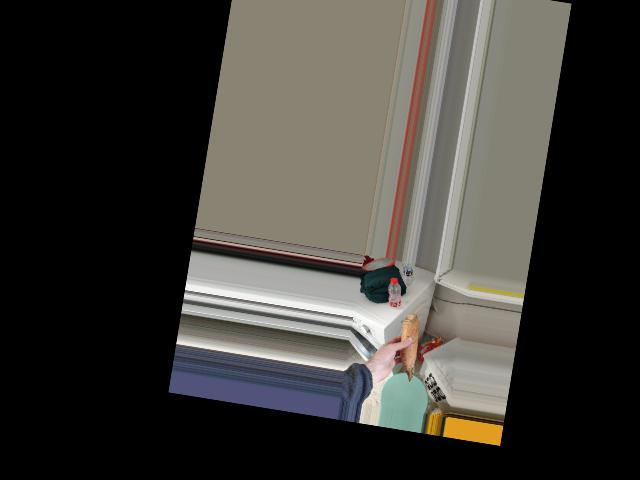sweet_potato: (391, 310, 423, 380)
